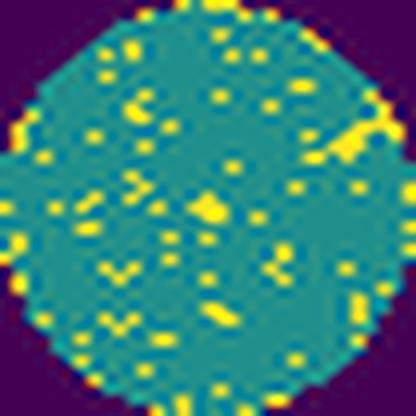Loc: (306, 93, 402, 162), (190, 193, 233, 227)
